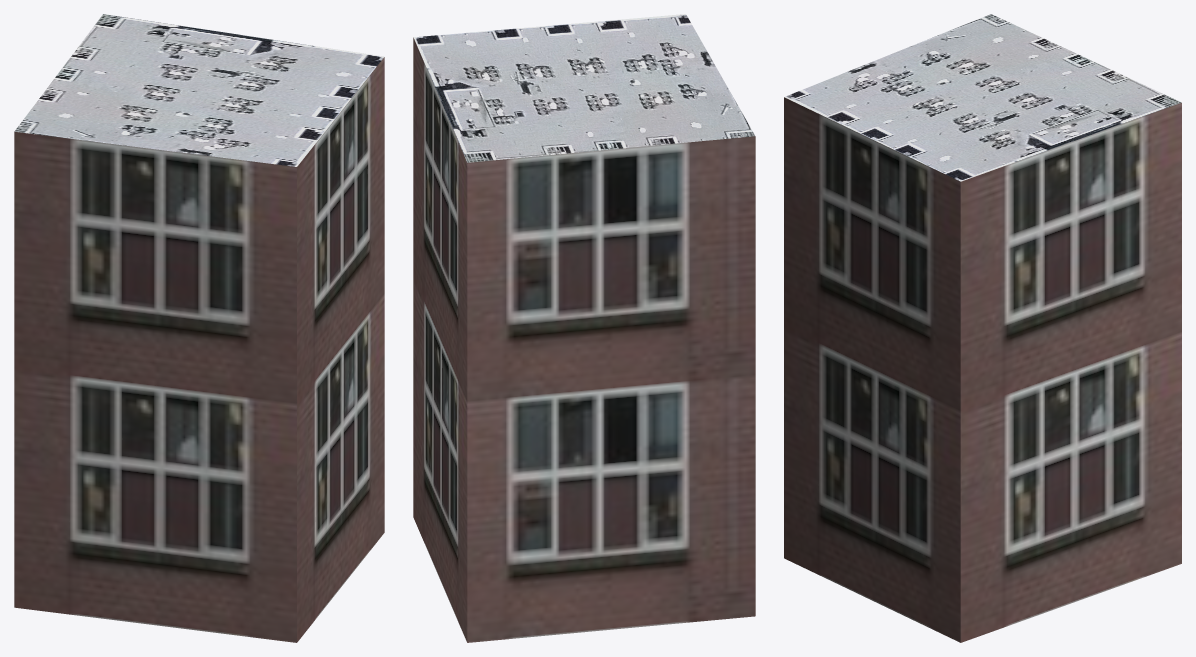
The model's file is ResTex__2789.fbx.
The picture shows the model from 3 angles, left to right: view 1: azimuth 30°, elevation 25°; view 2: azimuth 150°, elevation 25°; view 3: azimuth 270°, elevation 25°; orthographic projection. The views are drawn at different scales.
Visible parts, largest first — view 1: CityEngineMaterial_12_m, CityEngineMaterial_8_m; view 2: CityEngineMaterial_12_m, CityEngineMaterial_8_m; view 3: CityEngineMaterial_12_m, CityEngineMaterial_8_m.
Part boxes in pixels (x1,y1,x2,y2): CityEngineMaterial_12_m: (14, 57, 384, 642); CityEngineMaterial_8_m: (14, 14, 384, 166); CityEngineMaterial_12_m: (413, 37, 755, 642); CityEngineMaterial_8_m: (413, 14, 755, 162); CityEngineMaterial_12_m: (784, 97, 1181, 642); CityEngineMaterial_8_m: (784, 14, 1181, 181).
Size of the model in its own units: 4.68 by 6 by 4.69.
Materials: 2 (2 with a texture image).
